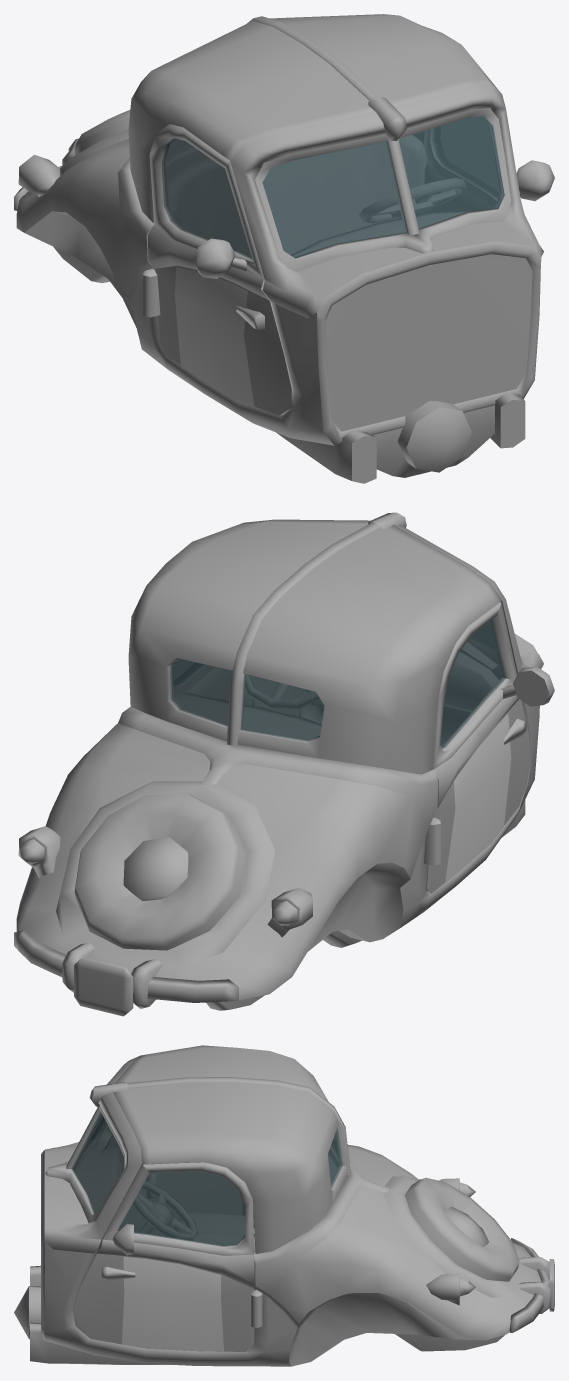
File: Body_Talbo.fbx
3 renders of one model, top to bottom at view 1: azimuth 30°, elevation 25°; view 2: azimuth 150°, elevation 25°; view 3: azimuth 270°, elevation 25°, orthographic. The views are drawn at different scales.
Visible parts, largest first — view 1: Talbot_Body_Mesh, Talbot_Body_Roof_Mesh, Talbot_Body_Window_Mesh, Talbot_Door_Right_Mesh, Talbot_Door_Right_Decal_Mesh, Talbot_Door_Right_Window_Mesh, Talbot_Door_Left_Window_Mesh, Talbot_Door_Left_Mesh, Talbot_SteerWheel_Mesh, Talbot_Body_SpareWheel_Mesh; view 2: Talbot_Body_Mesh, Talbot_Body_Roof_Mesh, Talbot_Body_SpareWheel_Mesh, Talbot_Door_Right_Mesh, Talbot_Body_Bumper_Rear_Mesh, Talbot_Body_Roof_Window_Mesh, Talbot_Door_Right_Decal_Mesh, Talbot_Door_Right_Window_Mesh, Talbot_Door_Left_Mesh, Talbot_SteerWheel_Mesh; view 3: Talbot_Body_Mesh, Talbot_Body_Roof_Mesh, Talbot_Door_Left_Mesh, Talbot_Door_Left_Decal_Mesh, Talbot_Door_Left_Window_Mesh, Talbot_Body_SpareWheel_Mesh, Talbot_Door_Right_Mesh, Talbot_Body_Window_Mesh, Talbot_Body_Bumper_Rear_Mesh, Talbot_SteerWheel_Mesh, Talbot_Body_Roof_Window_Mesh.
Boxes of the visible parts, x1,y1,x2,y2 form: Talbot_Body_Mesh: (16, 84, 543, 483); Talbot_Body_Roof_Mesh: (128, 14, 501, 222); Talbot_Body_Window_Mesh: (262, 116, 504, 258); Talbot_Door_Right_Mesh: (148, 124, 293, 415); Talbot_Door_Right_Decal_Mesh: (174, 267, 254, 406); Talbot_Door_Right_Window_Mesh: (161, 138, 252, 259); Talbot_Door_Left_Window_Mesh: (434, 116, 499, 197); Talbot_Door_Left_Mesh: (424, 129, 554, 211); Talbot_SteerWheel_Mesh: (359, 178, 466, 223); Talbot_Body_SpareWheel_Mesh: (74, 110, 130, 155); Talbot_Body_Mesh: (16, 524, 543, 1010); Talbot_Body_Roof_Mesh: (128, 512, 501, 774); Talbot_Body_SpareWheel_Mesh: (74, 794, 245, 950); Talbot_Door_Right_Mesh: (426, 602, 554, 893); Talbot_Body_Bumper_Rear_Mesh: (14, 929, 238, 1016); Talbot_Body_Roof_Window_Mesh: (170, 658, 324, 741); Talbot_Door_Right_Decal_Mesh: (445, 714, 511, 882); Talbot_Door_Right_Window_Mesh: (440, 619, 505, 748); Talbot_Door_Left_Mesh: (173, 665, 299, 716); Talbot_SteerWheel_Mesh: (245, 674, 324, 718); Talbot_Body_Mesh: (14, 1056, 540, 1366); Talbot_Body_Roof_Mesh: (89, 1045, 350, 1253); Talbot_Door_Left_Mesh: (72, 1162, 254, 1351); Talbot_Door_Left_Decal_Mesh: (122, 1257, 223, 1351); Talbot_Door_Left_Window_Mesh: (117, 1171, 245, 1246); Talbot_Body_SpareWheel_Mesh: (404, 1177, 519, 1281); Talbot_Door_Right_Mesh: (107, 1135, 243, 1236); Talbot_Body_Window_Mesh: (72, 1111, 124, 1213); Talbot_Body_Bumper_Rear_Mesh: (509, 1238, 554, 1332); Talbot_SteerWheel_Mesh: (133, 1181, 197, 1239); Talbot_Body_Roof_Window_Mesh: (328, 1128, 342, 1187).
Size of the model in its own units: 186 by 169 by 314.
